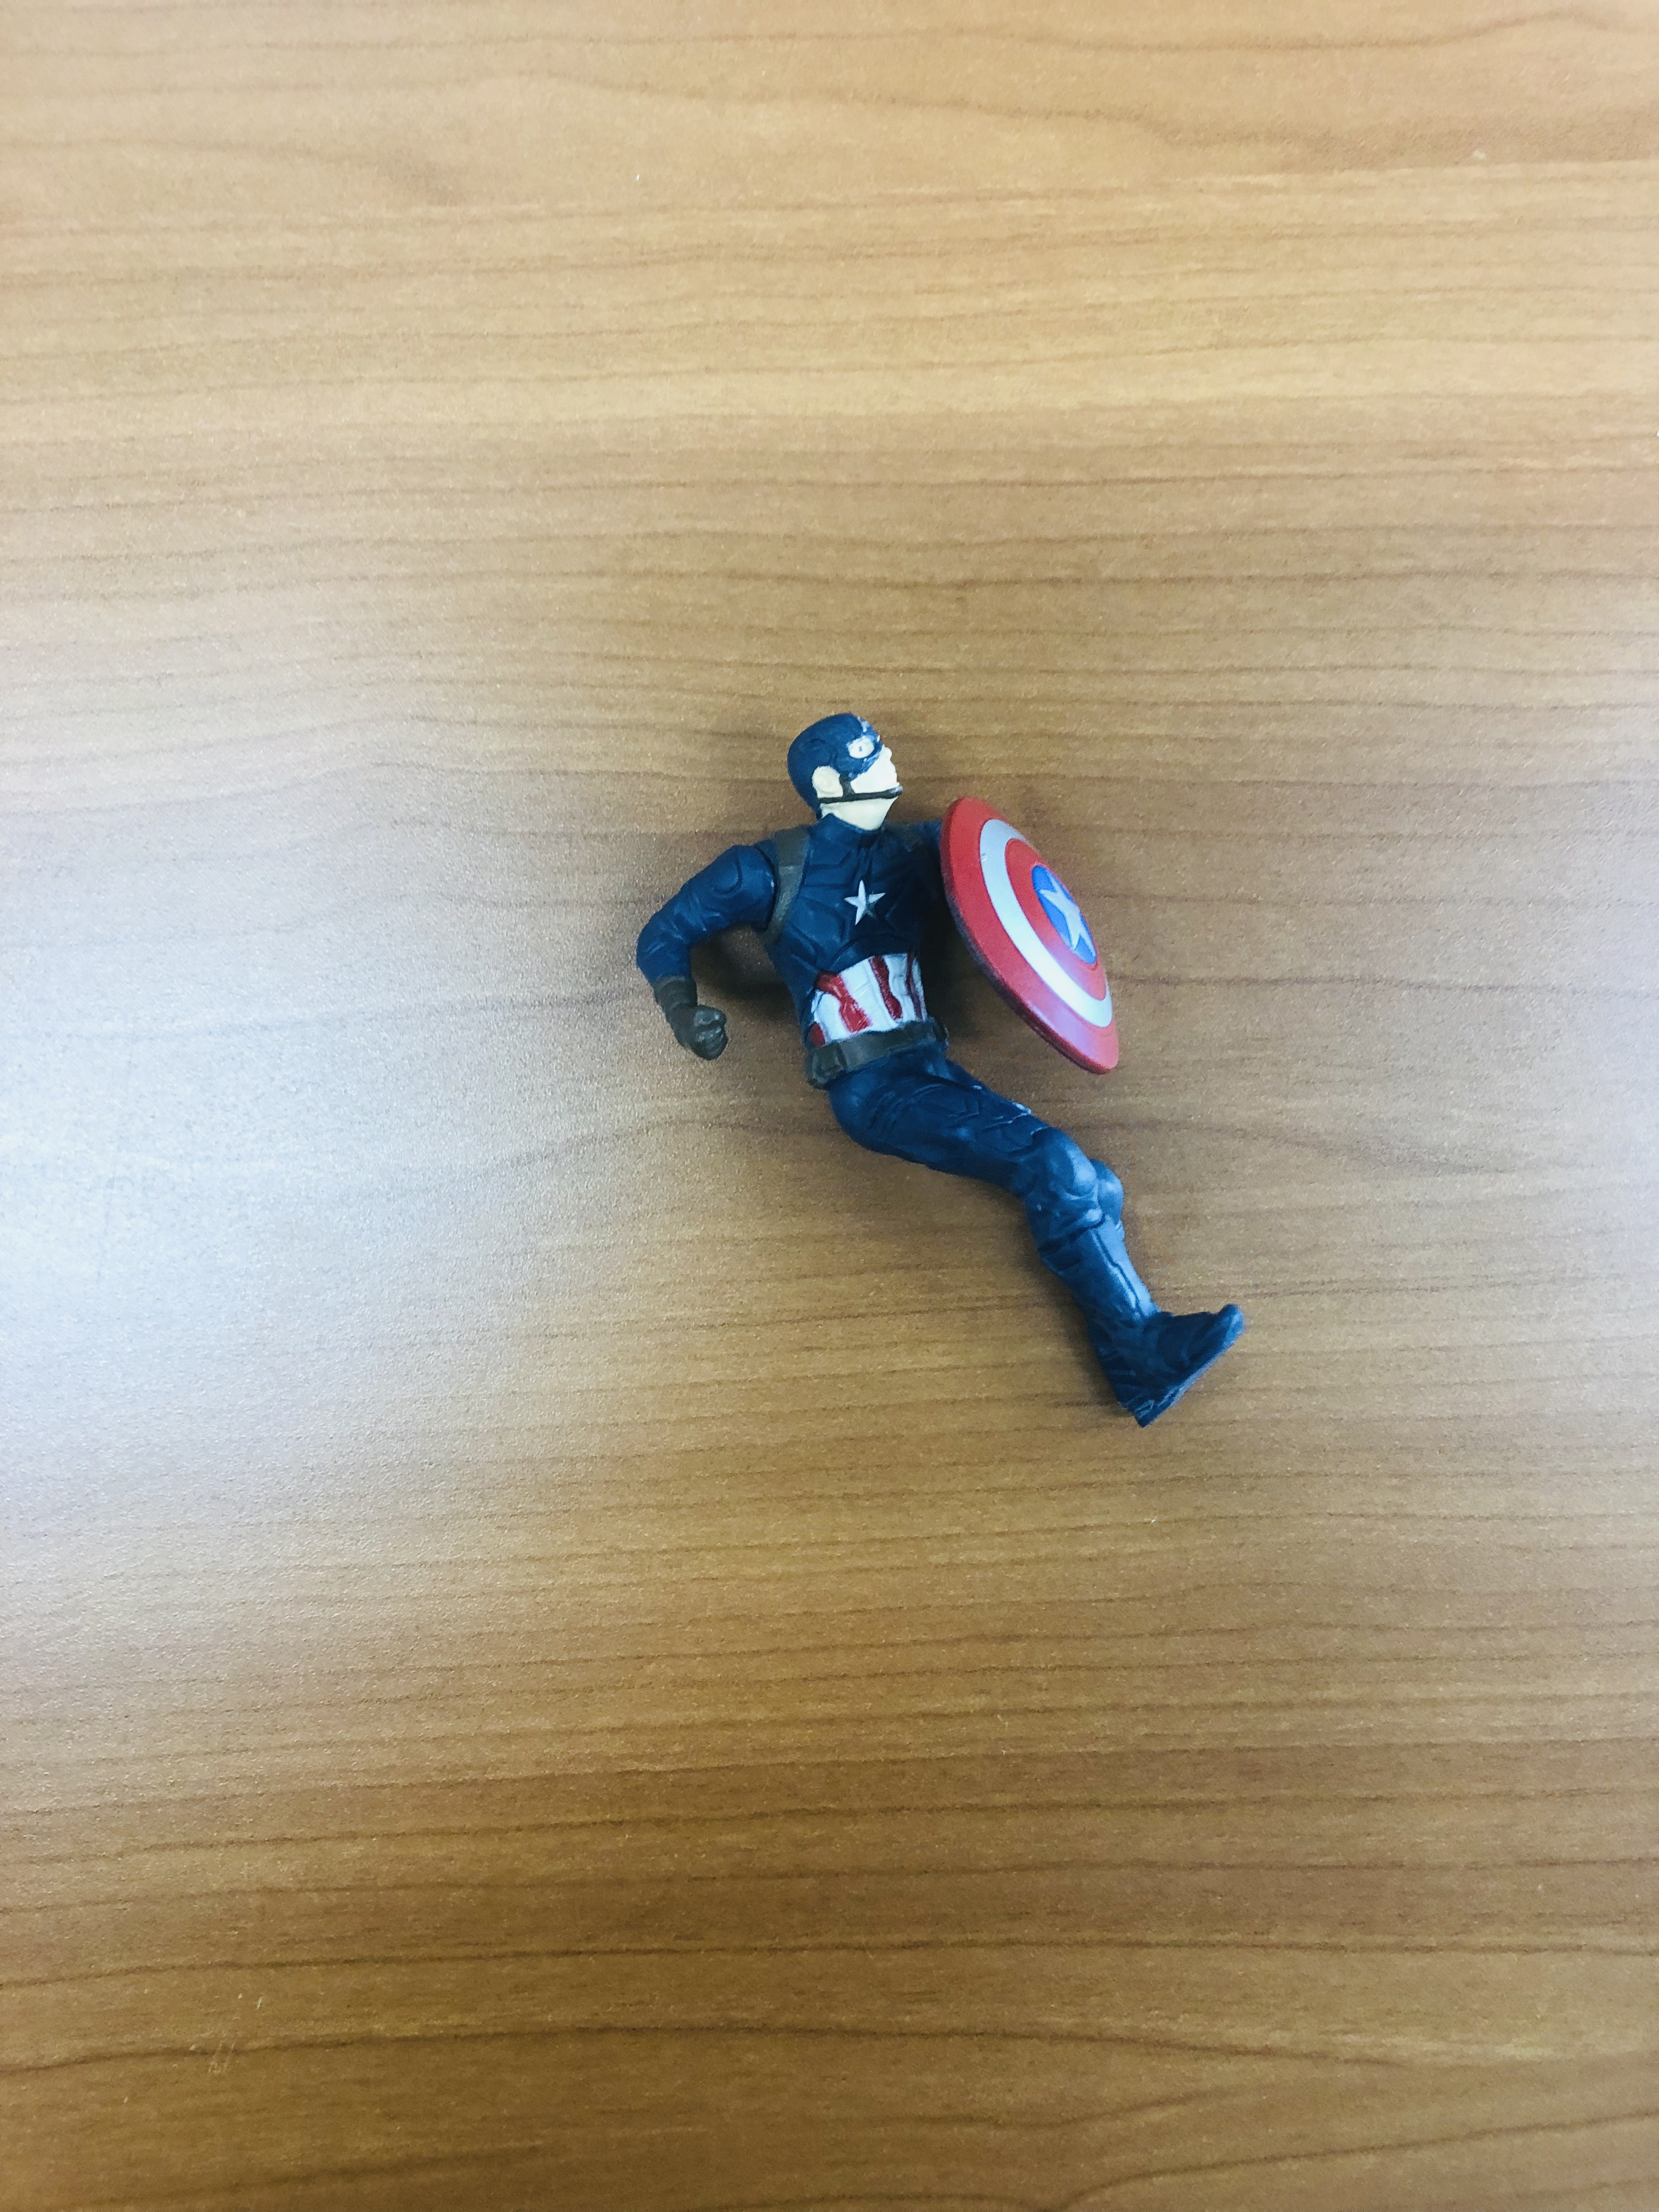people: (592, 679, 1328, 1460)
